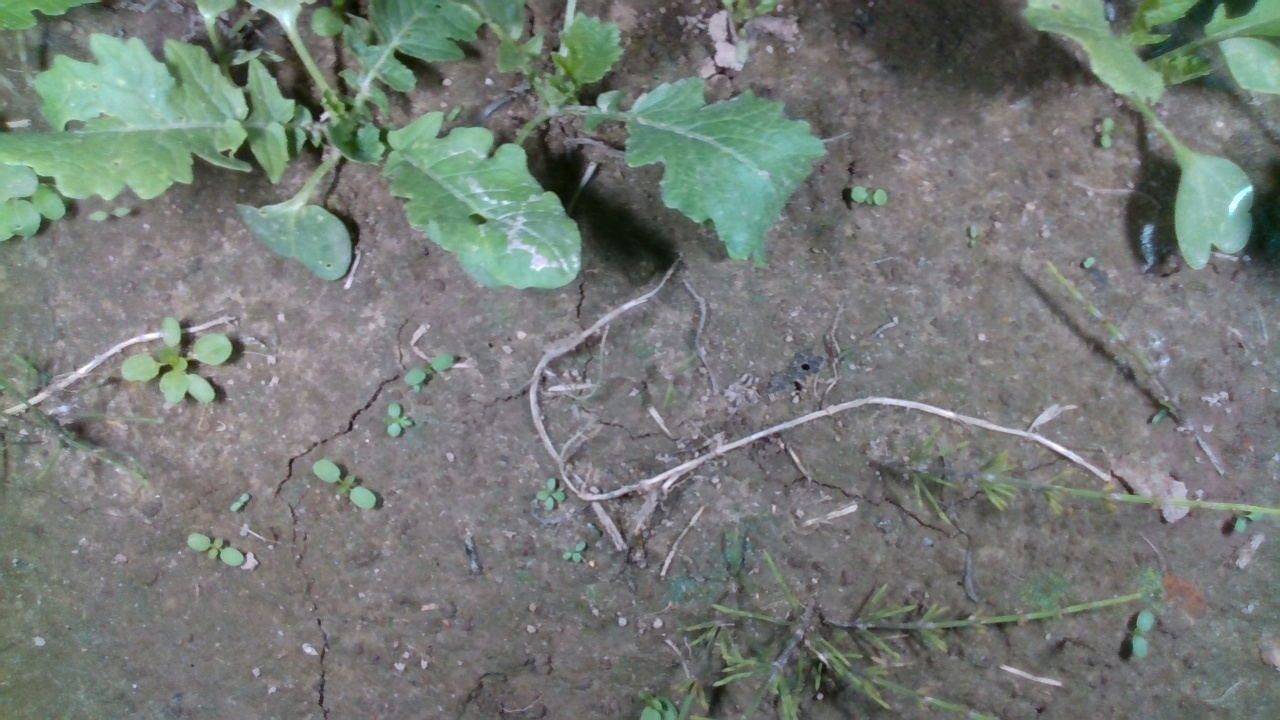weed: (310, 459, 378, 509), (185, 532, 246, 569), (400, 350, 456, 386), (1130, 609, 1155, 661), (533, 476, 567, 511), (386, 401, 416, 438), (849, 183, 890, 207), (86, 206, 133, 223), (561, 538, 586, 566), (1097, 116, 1117, 150), (228, 490, 251, 514), (967, 223, 978, 252), (1081, 256, 1097, 270)
